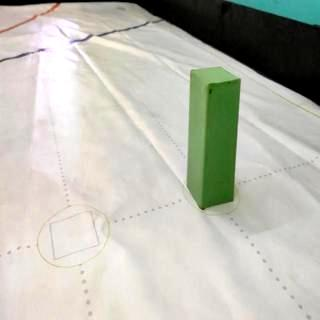greenbox: (186, 67, 242, 210)
